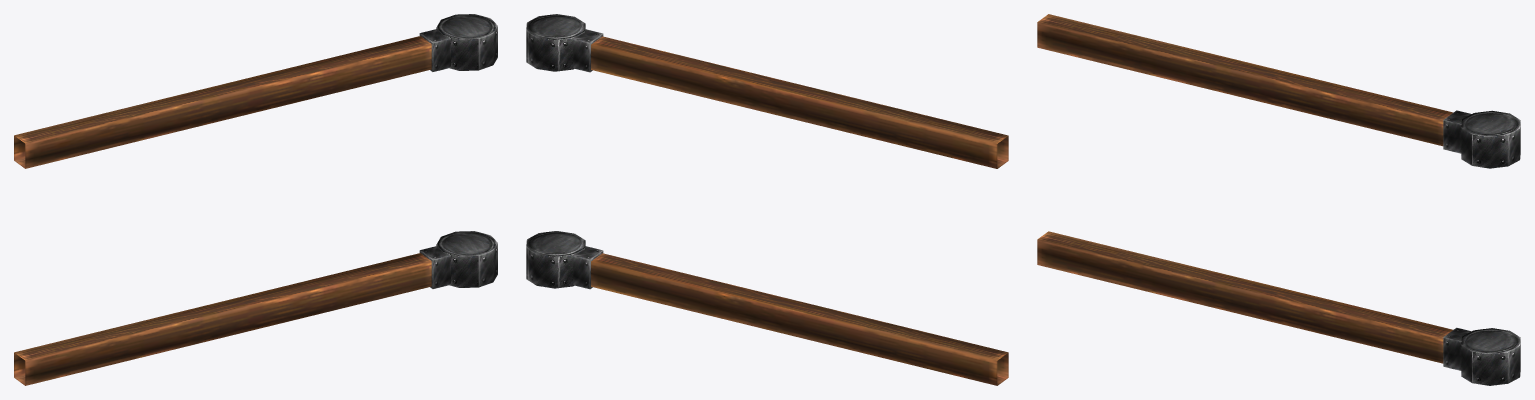
Rendered from INST_SWORDLIGHT_WATERWHLSLIDER.fbx.
The picture shows the model from 3 angles, left to right: view 1: azimuth 30°, elevation 25°; view 2: azimuth 150°, elevation 25°; view 3: azimuth 330°, elevation 25°; orthographic projection.
Visible parts, largest first — view 1: INST_SWORDLIGHT_WATERWHLSLIDER; view 2: INST_SWORDLIGHT_WATERWHLSLIDER; view 3: INST_SWORDLIGHT_WATERWHLSLIDER.
Boxes of the visible parts, x1,y1,x2,y2 form: INST_SWORDLIGHT_WATERWHLSLIDER: [14, 14, 497, 385]; INST_SWORDLIGHT_WATERWHLSLIDER: [526, 14, 1008, 385]; INST_SWORDLIGHT_WATERWHLSLIDER: [1037, 14, 1520, 385].
Bounding box in the file's own units: 182635 × 91634 × 20405.
Materials: 3 (3 with a texture image).
